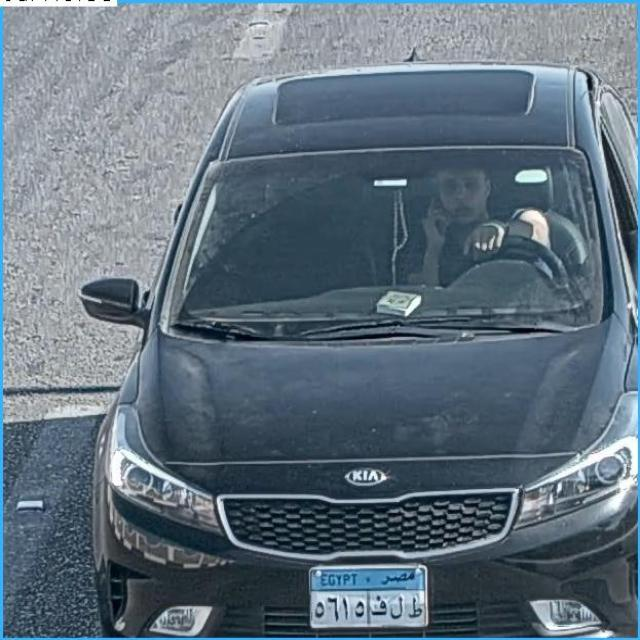No-seat-belt: (436, 163, 616, 324)
